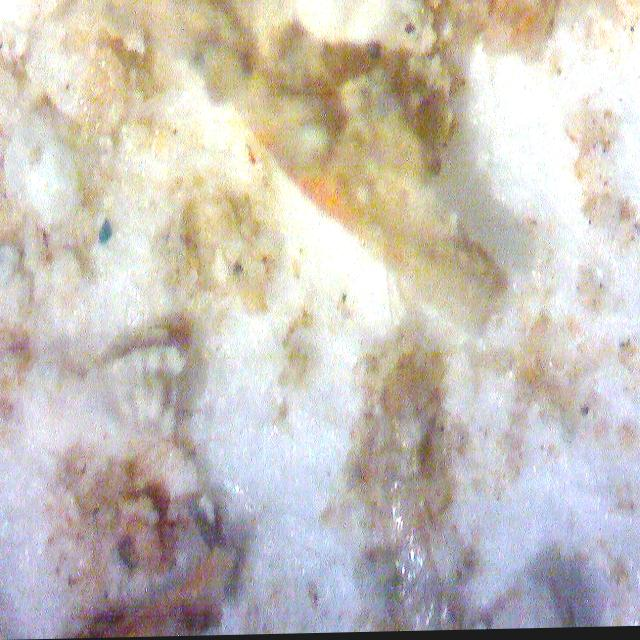microplastic: (99, 217, 113, 242)
